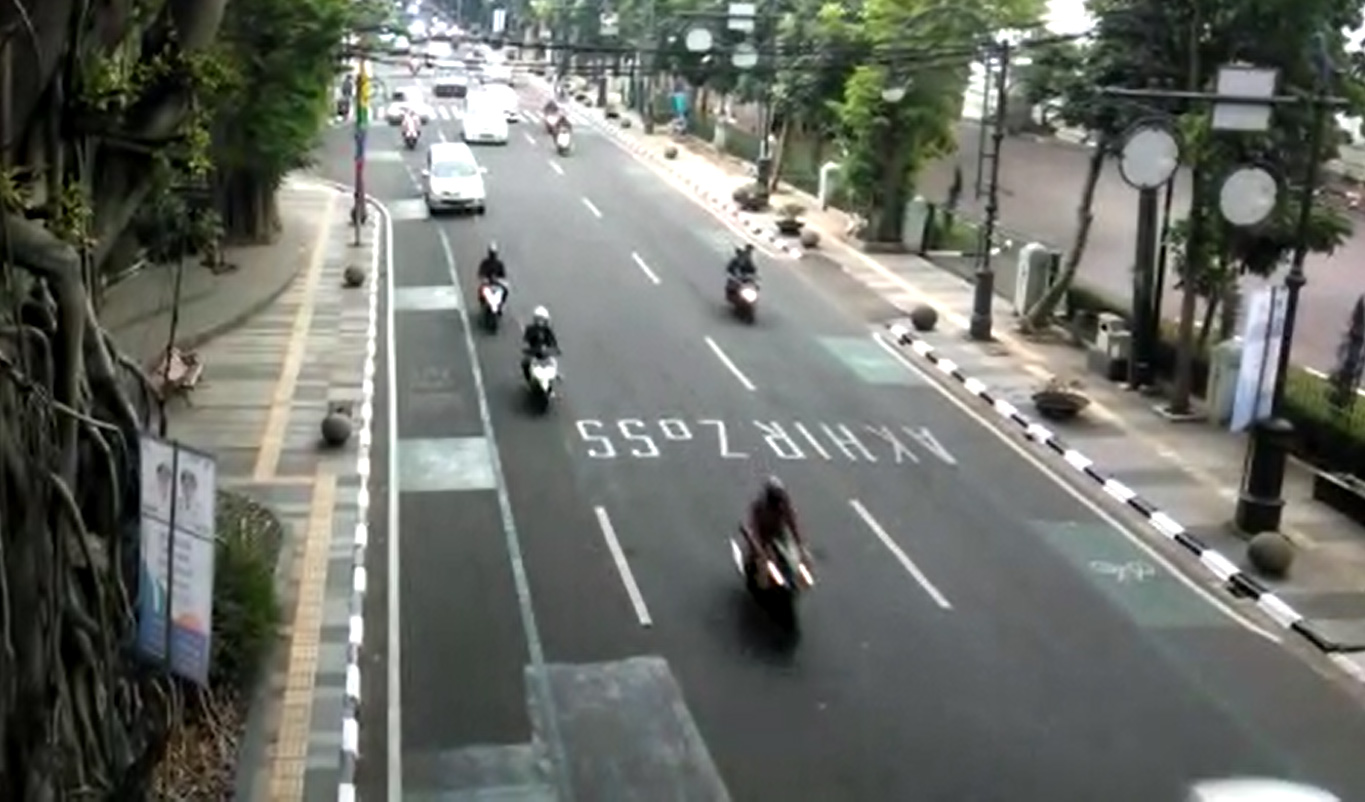mobil: (414, 138, 495, 222)
motor: (719, 470, 831, 670), (512, 300, 572, 423), (711, 236, 772, 333), (466, 237, 519, 344)
